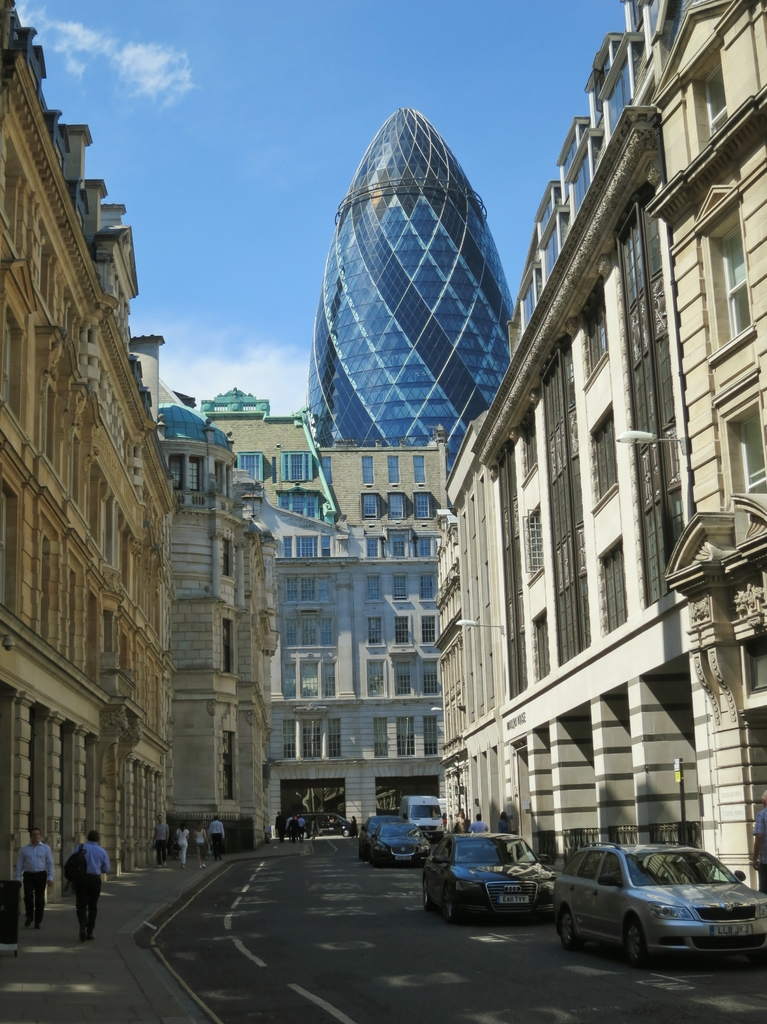Car: (362, 814, 766, 970)
